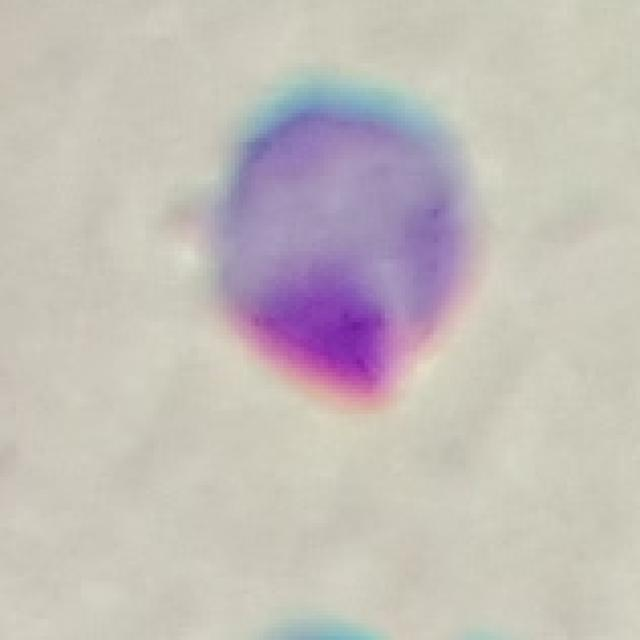non-sperm: (218, 104, 476, 397)
